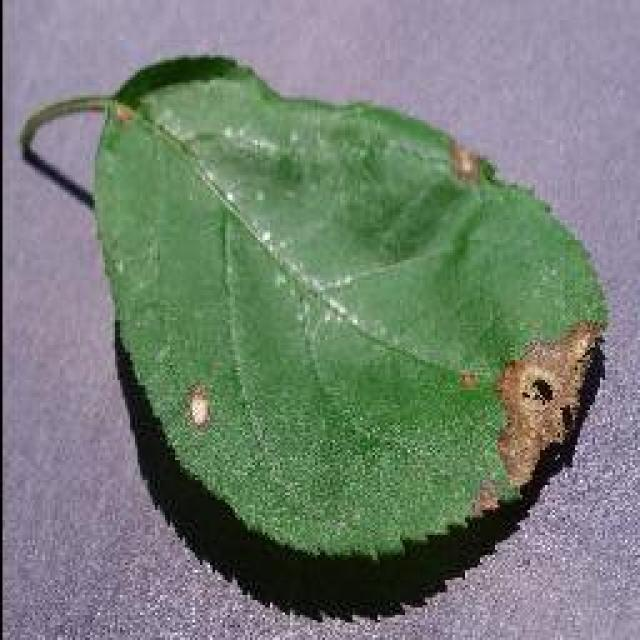apple healthy: (20, 50, 610, 622)
